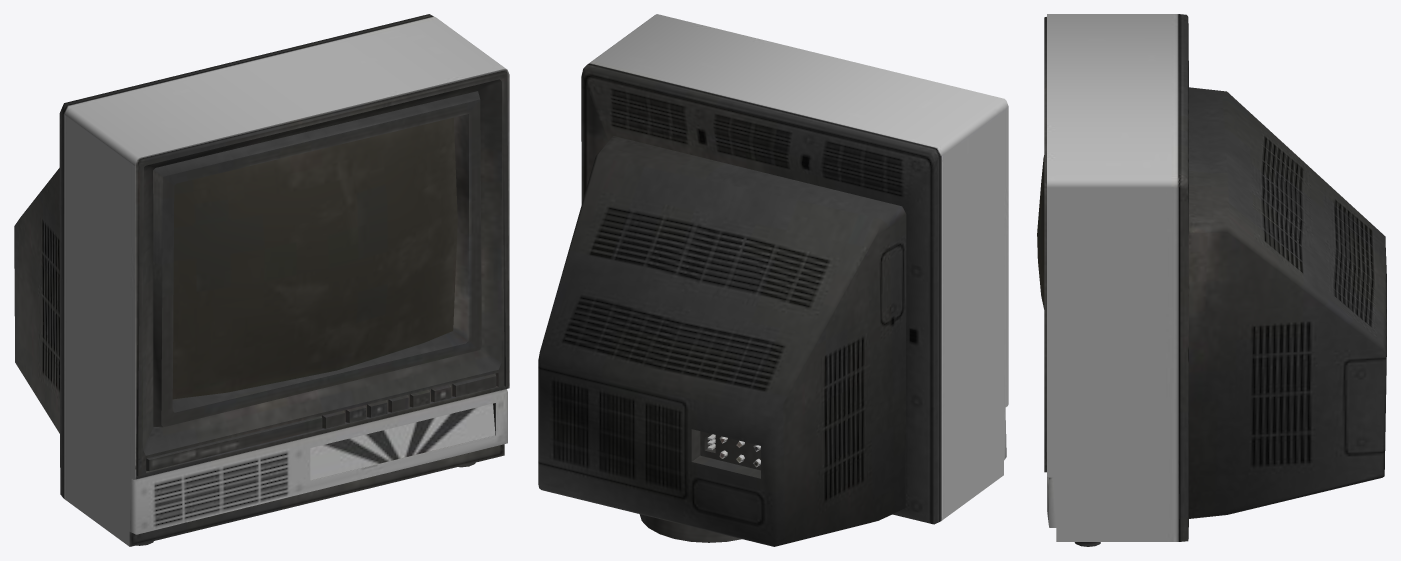
File: television_02.glb
3 renders of one model, left to right at view 1: azimuth 30°, elevation 25°; view 2: azimuth 150°, elevation 25°; view 3: azimuth 270°, elevation 25°, orthographic. The views are drawn at different scales.
Parts seen in each view (by area): view 1: television_02; view 2: television_02; view 3: television_02.
Part boxes in pixels (x1,y1,x2,y2): television_02: [14, 14, 509, 546]; television_02: [538, 14, 1008, 546]; television_02: [1037, 14, 1386, 546].
Size of the model in its own units: 0.3997 by 0.4108 by 0.3502.
1 material, 1 textured.
